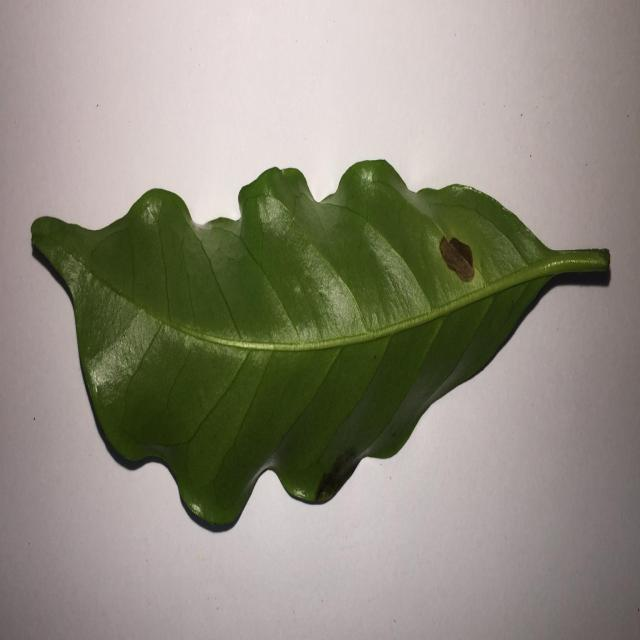Plaga-Minador: (29, 159, 612, 536)
